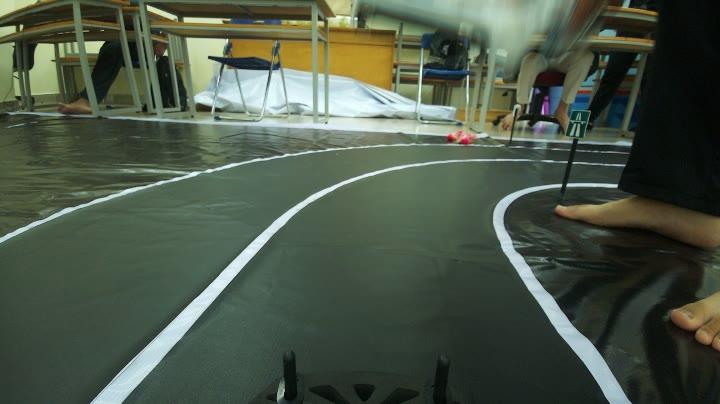highway_entry: (564, 102, 590, 140)
